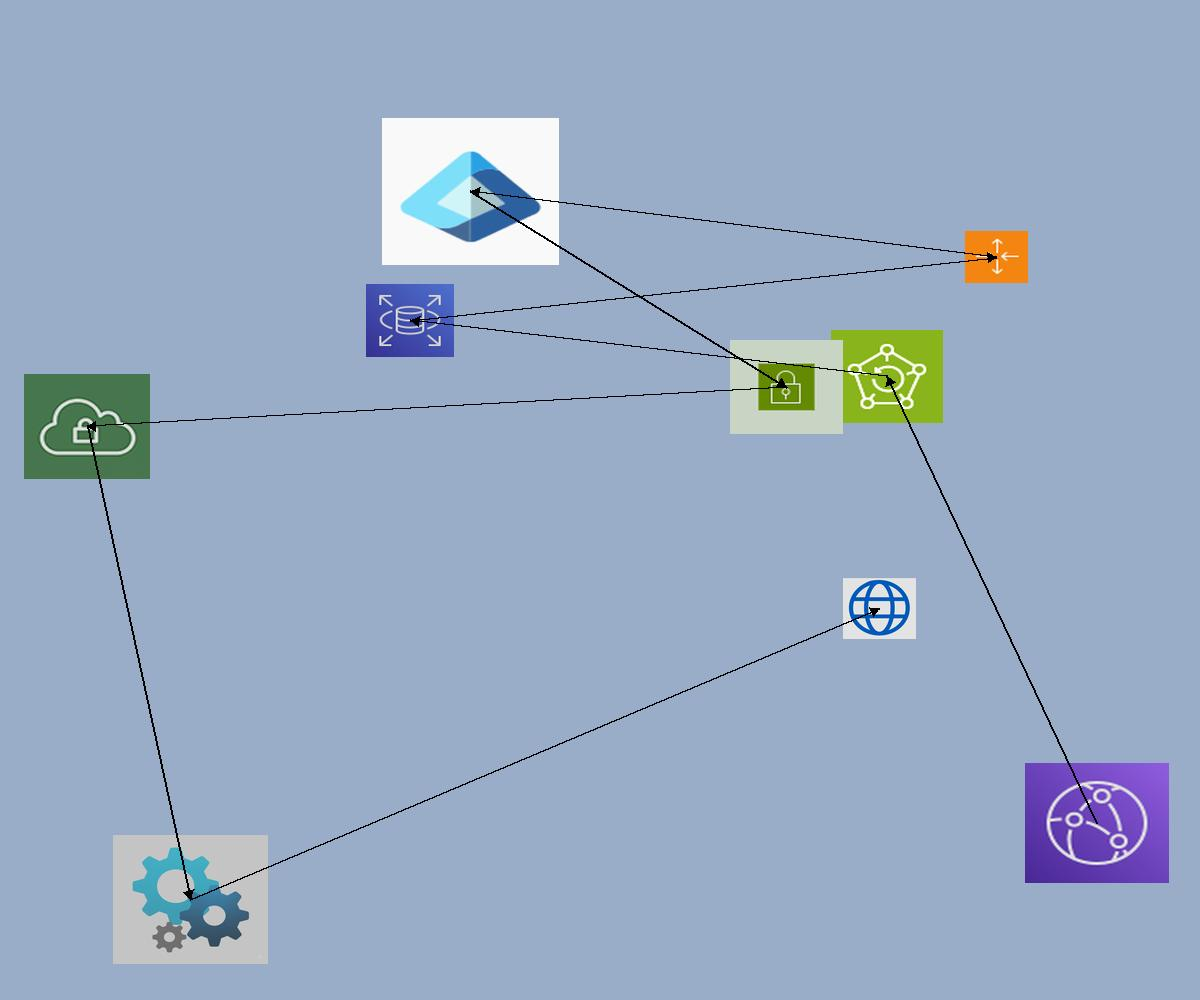AWS-Backup: (831, 330, 943, 423)
AWS-CloudFront: (1025, 763, 1169, 883)
AWS-Private_vpc: (24, 374, 150, 479)
AWS-Public-subnet: (730, 340, 843, 434)
AWS-RDS: (366, 284, 454, 357)
AWS-Scaling-group: (965, 231, 1028, 283)
Azure_api: (113, 835, 268, 964)
Azure_http: (843, 578, 916, 639)
Azure_microsoft_entra: (382, 118, 559, 265)
